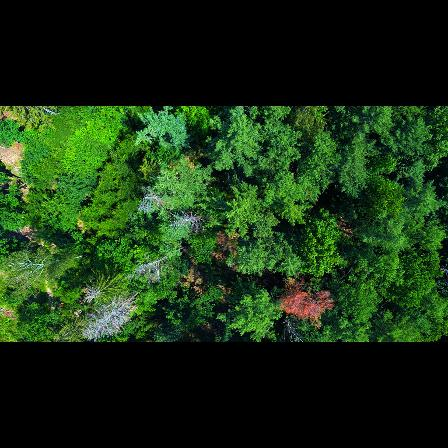Dead: (84, 292, 138, 340), (11, 250, 82, 281), (133, 248, 174, 286), (163, 206, 208, 236)
